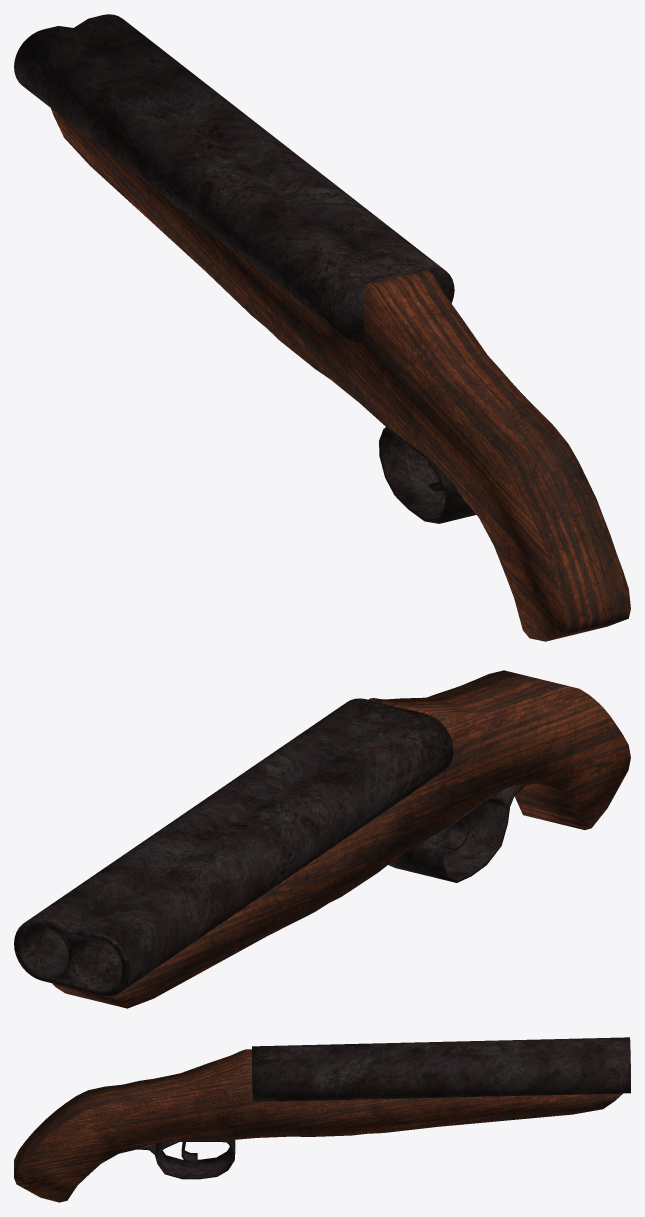
Rendered from doublebarrel.obj.
3 views of the same model, one above another, from view 1: azimuth 30°, elevation 25°; view 2: azimuth 150°, elevation 25°; view 3: azimuth 270°, elevation 25° (orthographic). The views are drawn at different scales.
Parts seen in each view (by area): view 1: Shotgun_Cube_NoShadow, Barrel+Release_NoShadow; view 2: Barrel+Release_NoShadow, Shotgun_Cube_NoShadow; view 3: Shotgun_Cube_NoShadow, Barrel+Release_NoShadow.
Part boxes in pixels (x1,y1,x2,y2): Shotgun_Cube_NoShadow: [51, 108, 630, 641]; Barrel+Release_NoShadow: [14, 14, 476, 523]; Barrel+Release_NoShadow: [14, 698, 524, 995]; Shotgun_Cube_NoShadow: [52, 670, 630, 1008]; Shotgun_Cube_NoShadow: [14, 1049, 622, 1202]; Barrel+Release_NoShadow: [137, 1037, 630, 1179].
Bounding box in the file's own units: 0.5107 × 1.04 × 3.99.
Materials: 2 (2 with a texture image).
